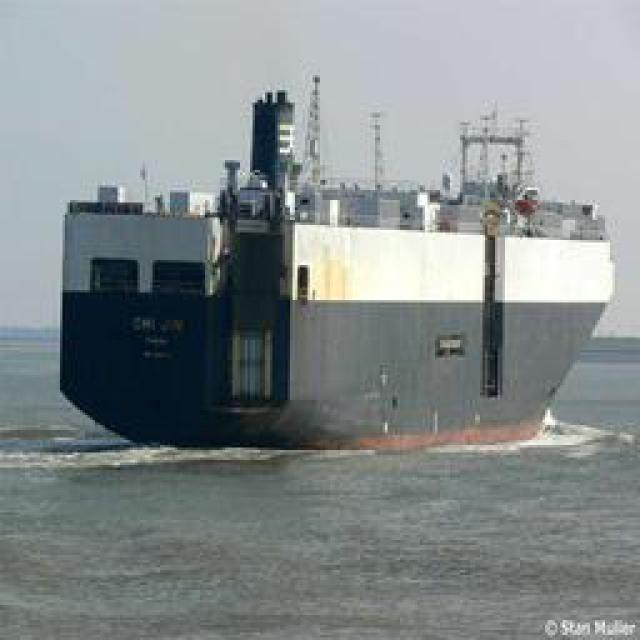Ship: (60, 86, 620, 459)
